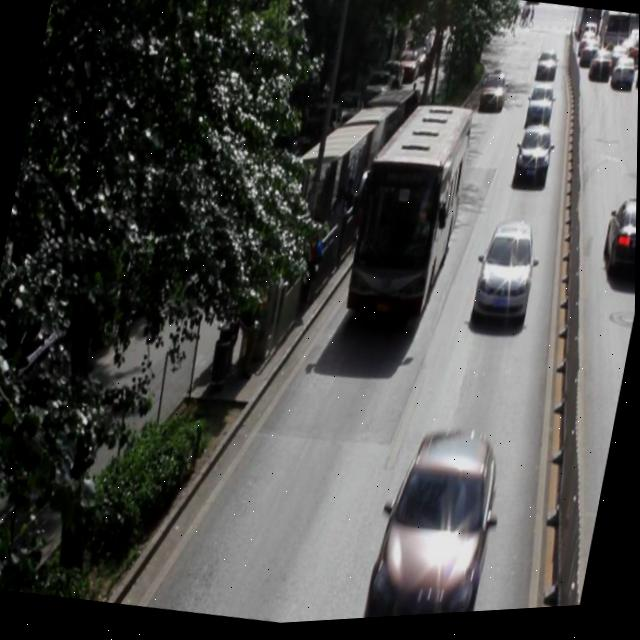car: (361, 421, 506, 623), (469, 220, 541, 332), (598, 198, 637, 289), (509, 125, 557, 193), (523, 88, 556, 135)
van: (345, 97, 476, 332)
